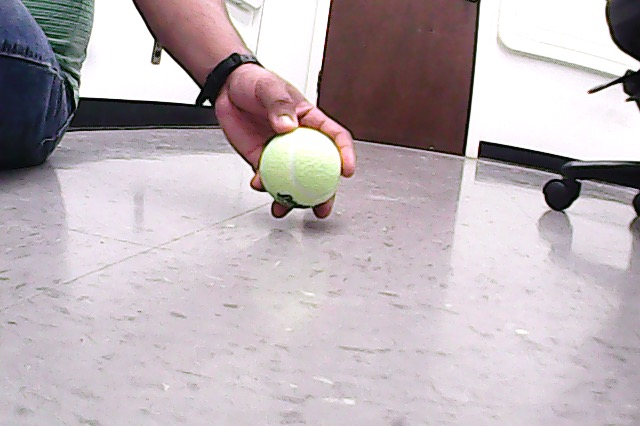ball: (257, 127, 345, 211)
